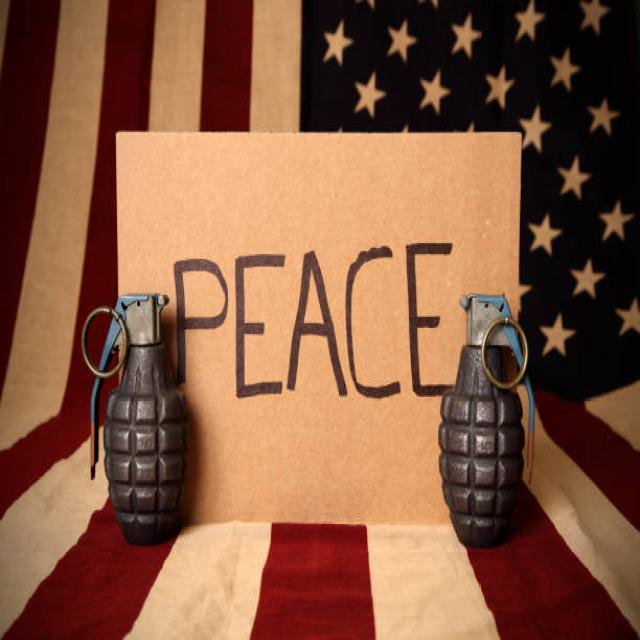grenade: (79, 288, 197, 550), (434, 285, 545, 557)
